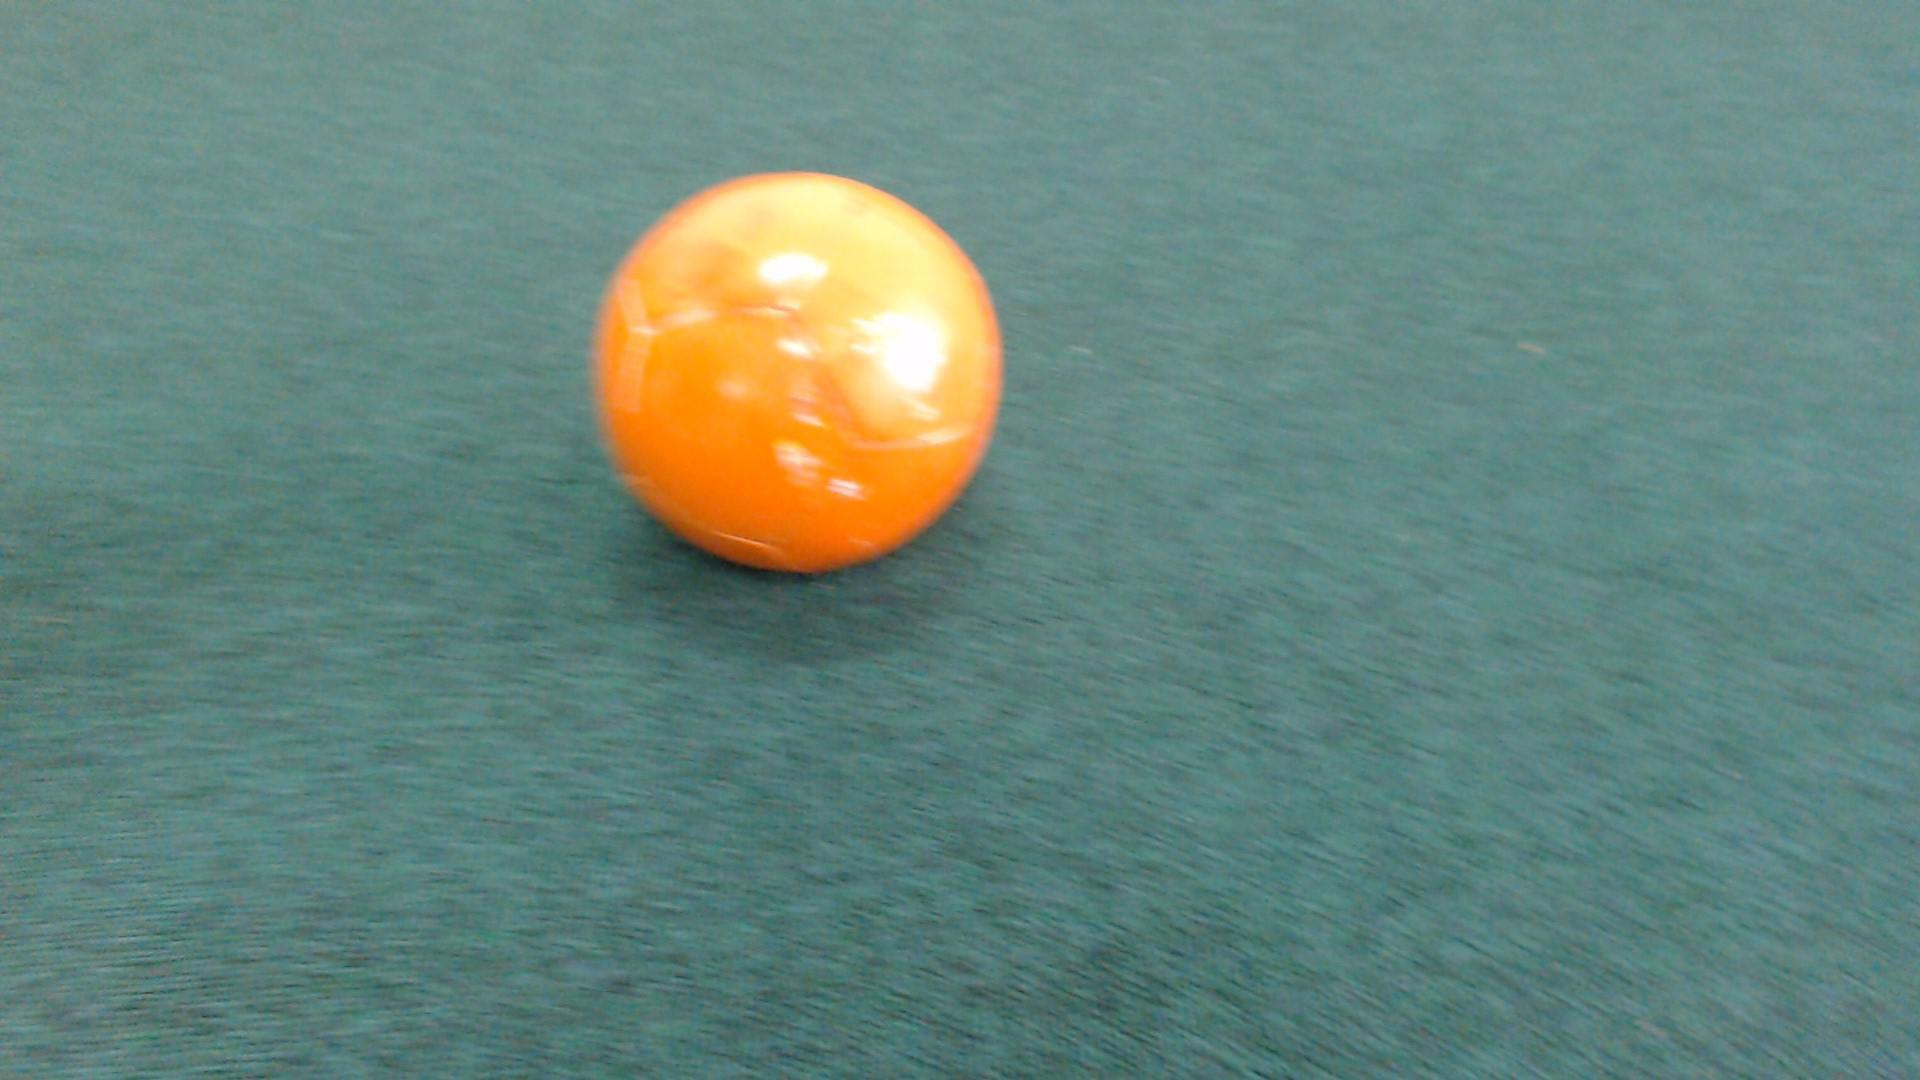bola: (562, 136, 1030, 595)
